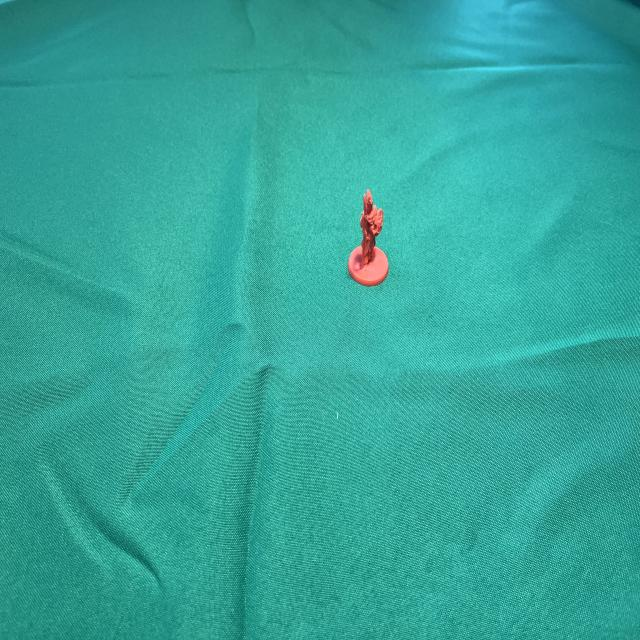amon_follower: (348, 190, 389, 287)
